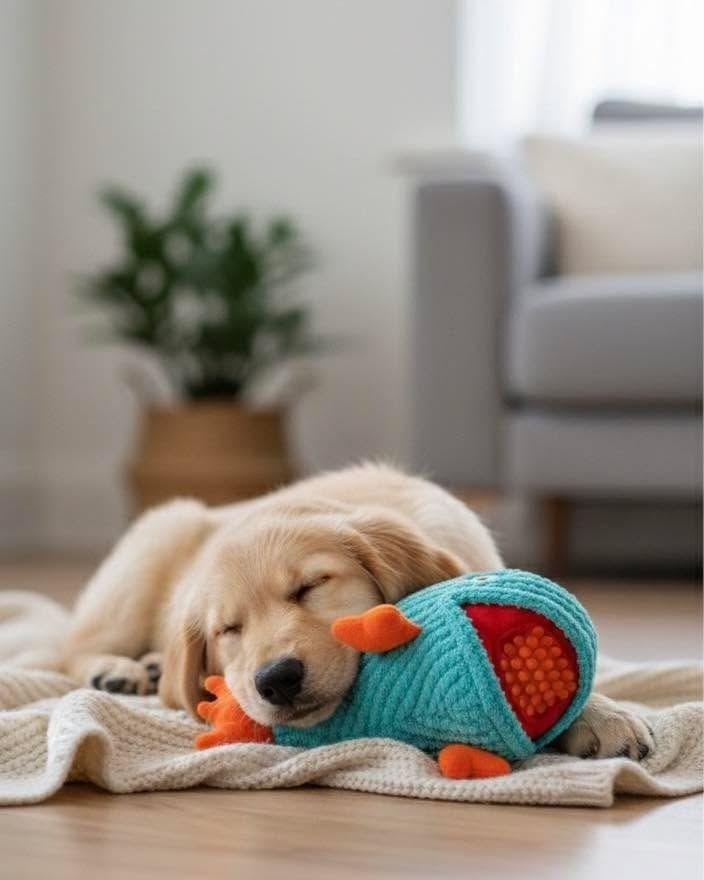puppy-dog: (4, 459, 658, 764)
